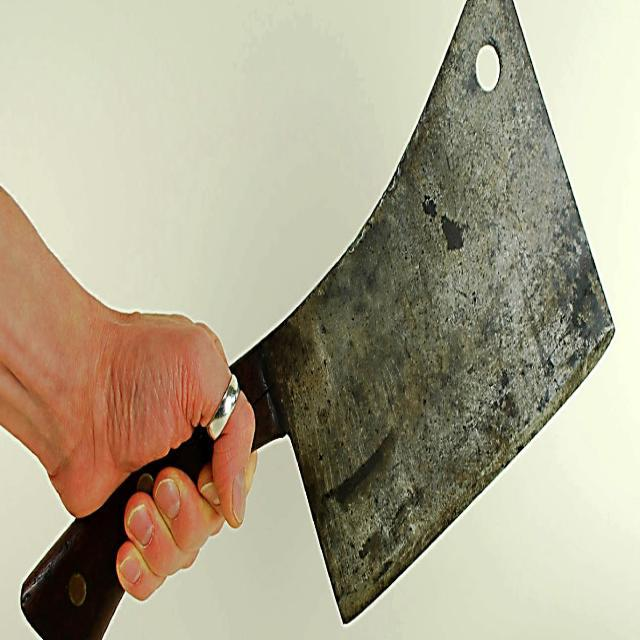Pisau: (12, 0, 623, 640)
